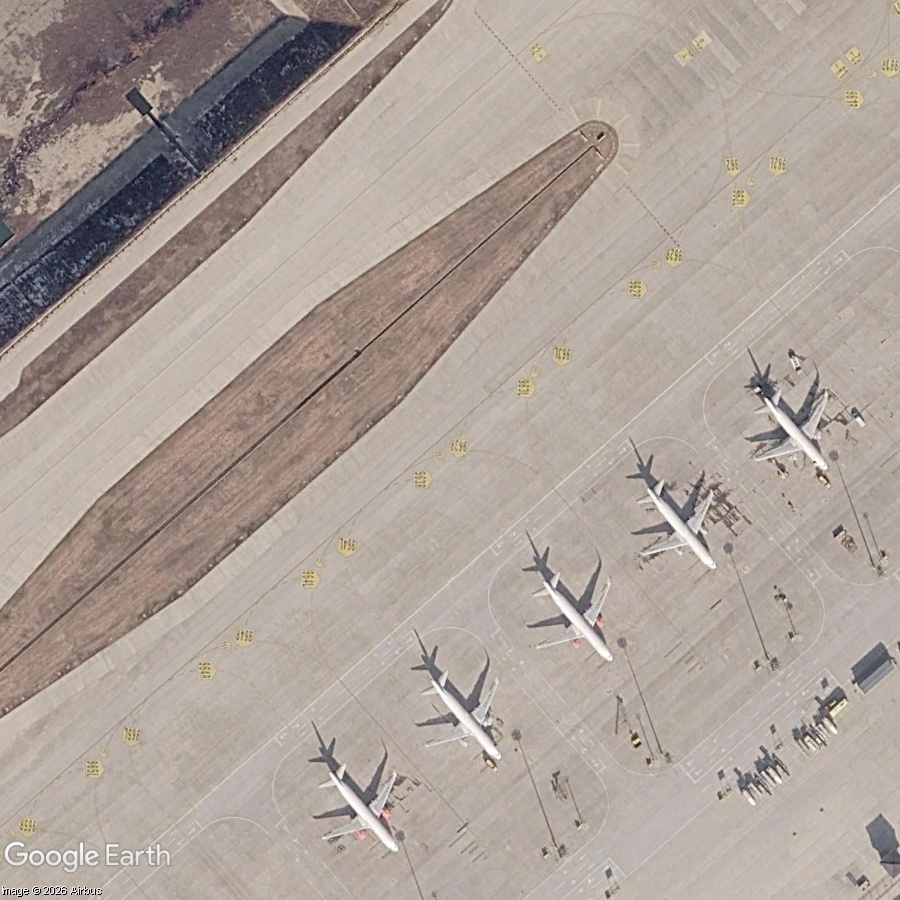Máy bay dân dụng: (289, 735, 439, 886), (391, 646, 541, 796), (722, 360, 872, 510), (504, 543, 653, 693), (607, 454, 755, 602)
